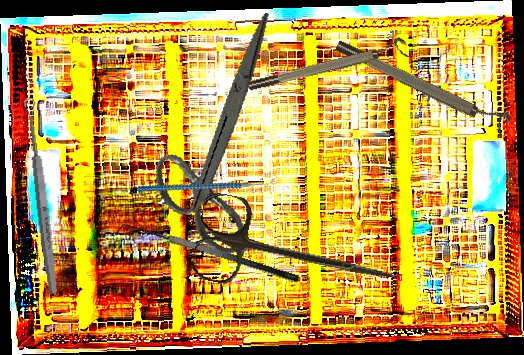Chopper: (136, 137, 279, 229)
Fixation Ring: (333, 29, 513, 139), (245, 35, 410, 94)
Iris Scissors: (120, 12, 327, 268), (189, 190, 405, 316)
Spatula Surgical: (114, 212, 301, 299)
Surgical Spoon: (22, 96, 61, 296)
